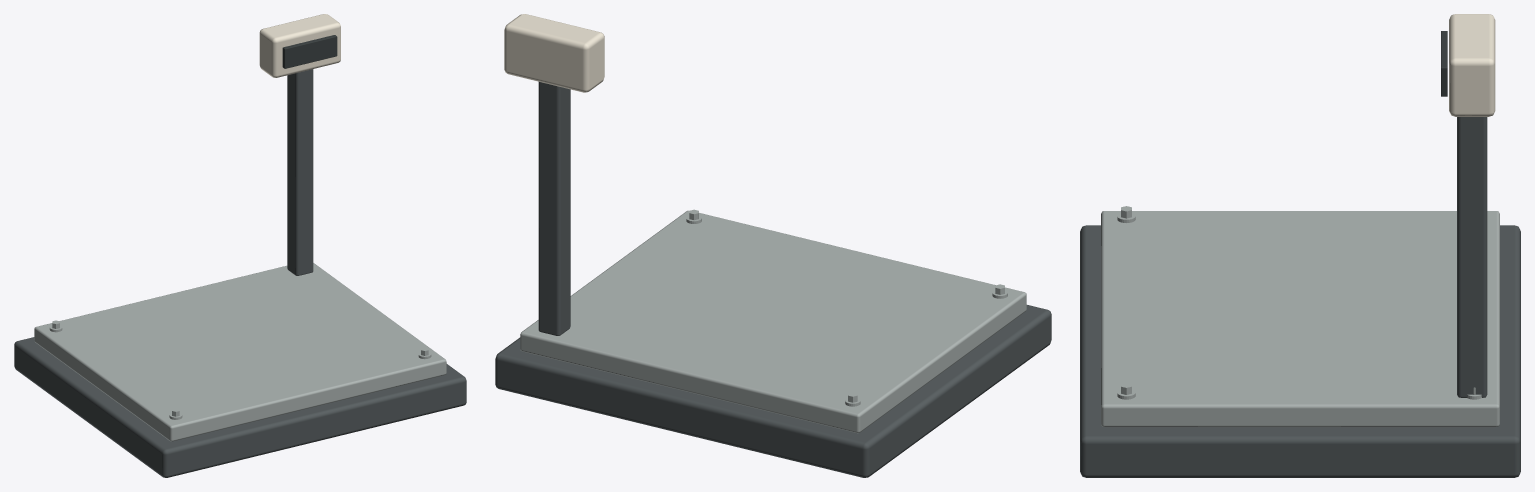
Rendered from coffee-roastery-and-cupping-room-coffee-roastery-and-c-649872ce__32181.glb.
The picture shows the model from 3 angles, left to right: view 1: azimuth 30°, elevation 25°; view 2: azimuth 150°, elevation 25°; view 3: azimuth 270°, elevation 25°; orthographic projection. The views are drawn at different scales.
Visible parts, largest first — view 1: coffee-roastery-and-cupping-room-receiving-platform-scale; view 2: coffee-roastery-and-cupping-room-receiving-platform-scale; view 3: coffee-roastery-and-cupping-room-receiving-platform-scale.
Boxes of the visible parts, box(x1,y1,x2,y2) form: coffee-roastery-and-cupping-room-receiving-platform-scale: box(14, 14, 466, 477); coffee-roastery-and-cupping-room-receiving-platform-scale: box(495, 14, 1051, 477); coffee-roastery-and-cupping-room-receiving-platform-scale: box(1080, 14, 1520, 477).
Bounding box in the file's own units: 1.11 × 1 × 0.95.
